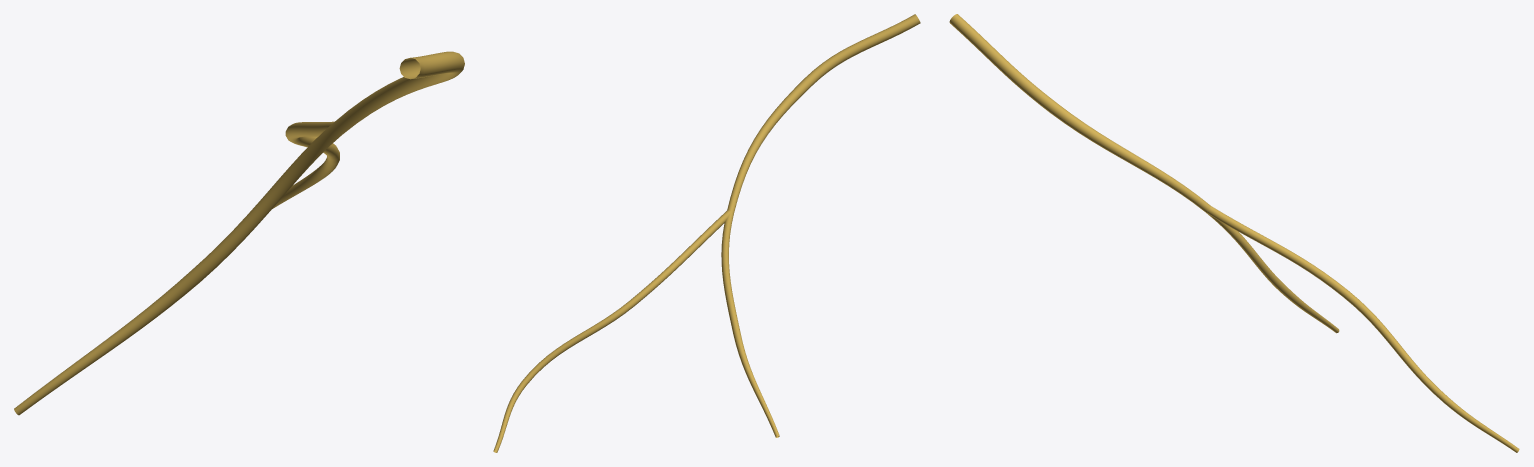
The picture shows the model from 3 angles, left to right: view 1: azimuth 30°, elevation 25°; view 2: azimuth 150°, elevation 25°; view 3: azimuth 270°, elevation 25°; orthographic projection. The views are drawn at different scales.
Visible parts, largest first — view 1: 左侧胸内侧神经; view 2: 左侧胸内侧神经; view 3: 左侧胸内侧神经.
Part boxes in pixels (<box>): 左侧胸内侧神经: <box>14,51,464,415</box>; 左侧胸内侧神经: <box>493,14,920,452</box>; 左侧胸内侧神经: <box>949,14,1519,452</box>.
Bounding box in the file's own units: 0.0671 × 0.0909 × 0.1373.
